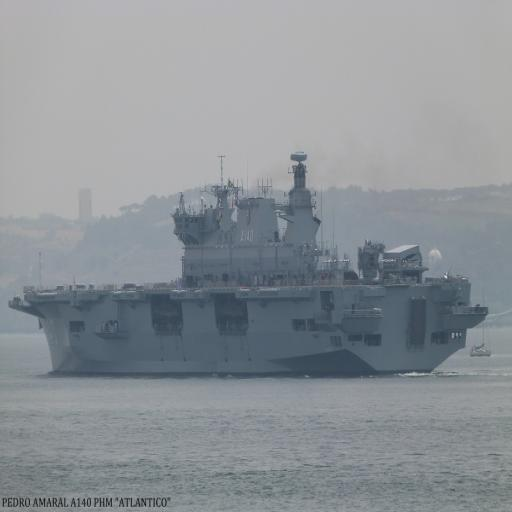Portanaves: (8, 148, 491, 380)
